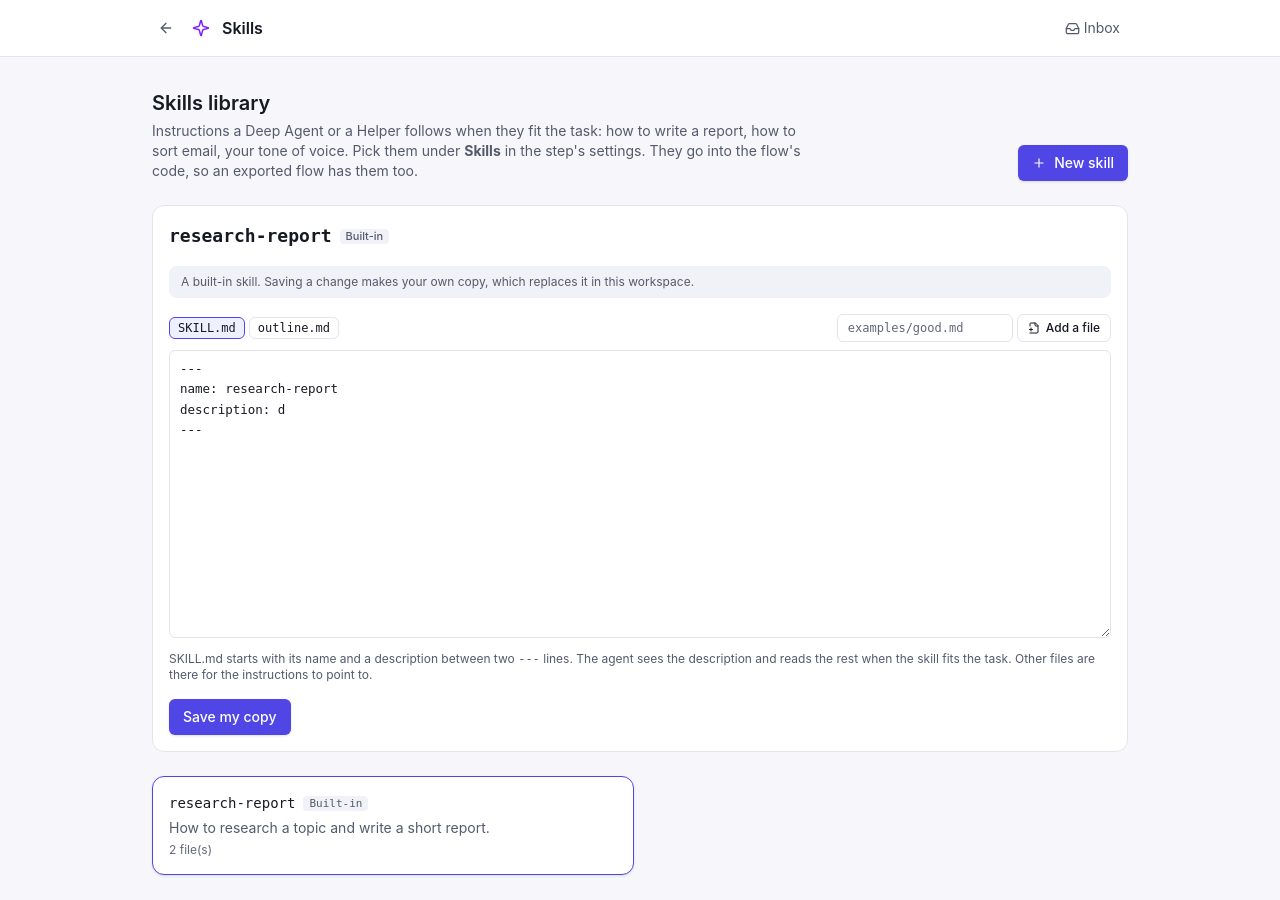
Test: the Skills library › offers to save a copy of a built-in skill
Expected: the button "Save my copy" is shown, [169,699,290,735]
Click the tab "outline.md". click: (294, 328)
box: [249,317,339,339]
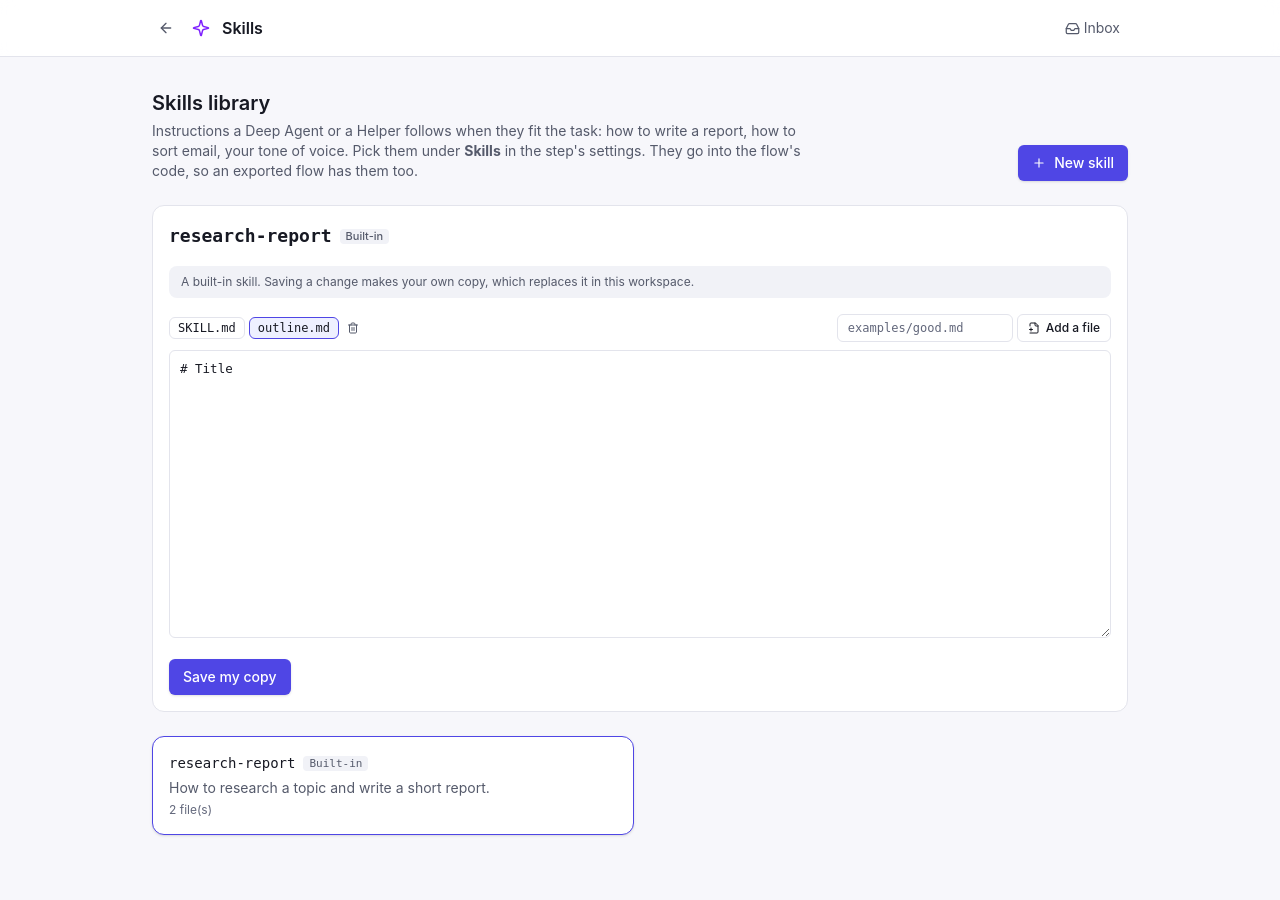
Expected: the text box named "Contents of outline.md" holds "# Title", [169,350,1111,638]
